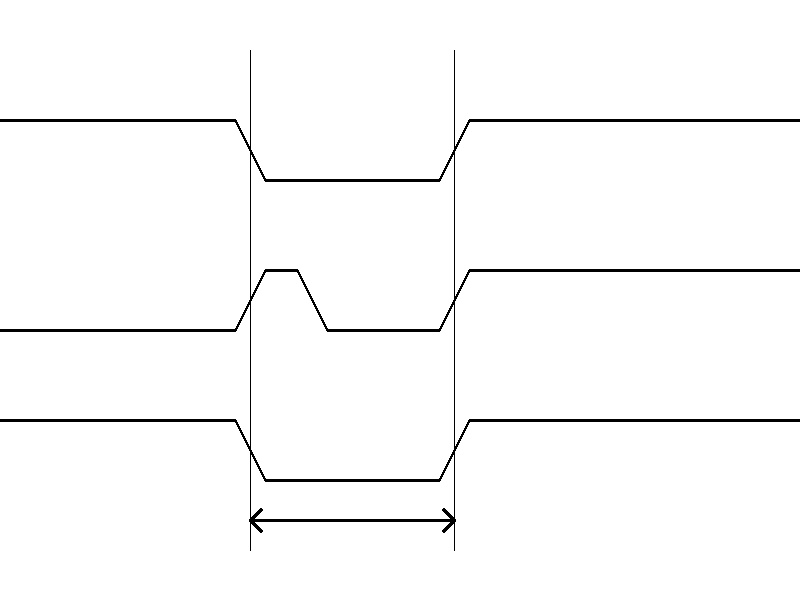double_arrow: (250, 505, 454, 535)
